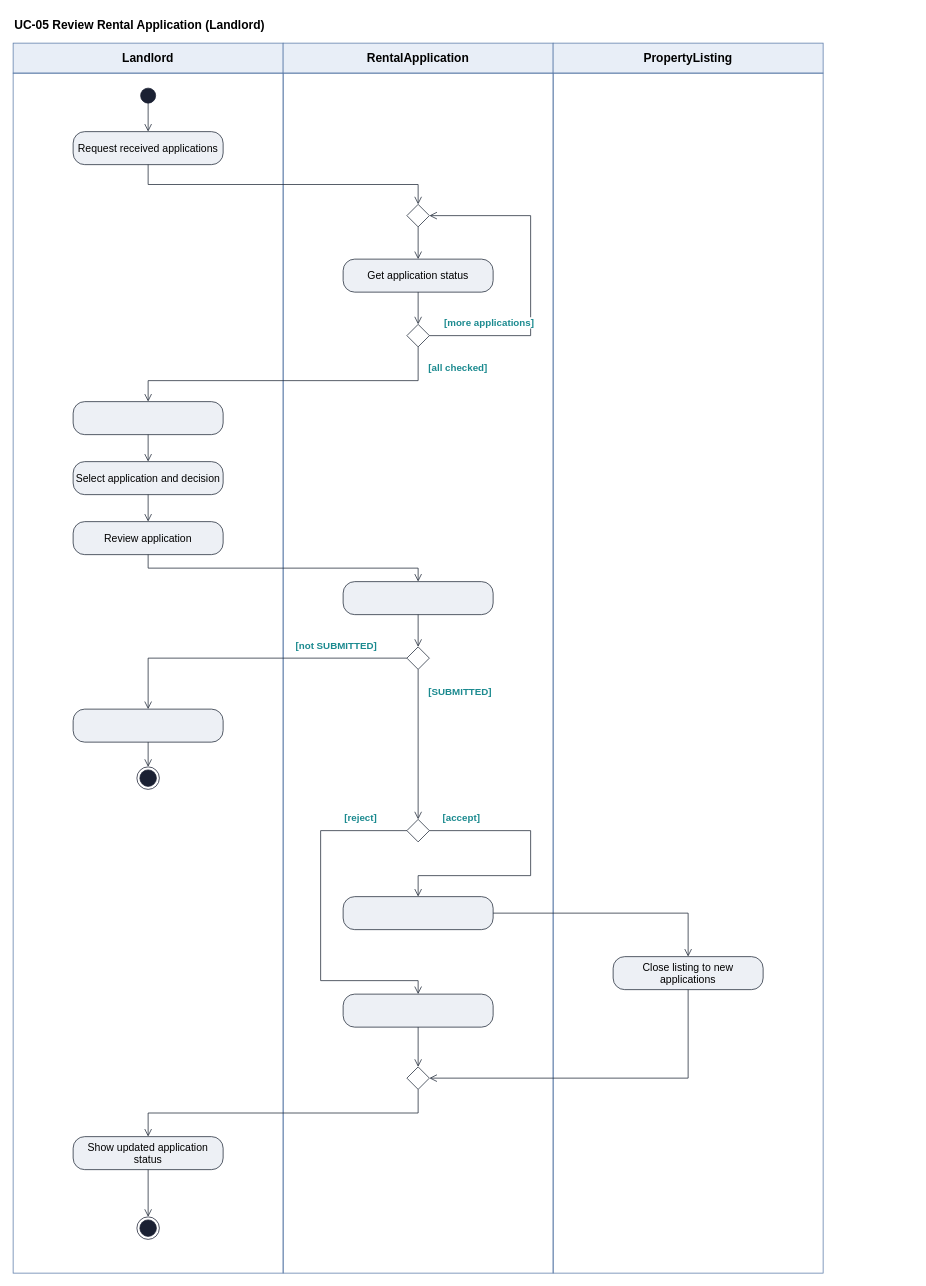
Image size: 926x1286. Some labels were removed from this diagram. The shapes that lost their labels are listed below. From the top down, each one's centre as x and y in pixels, then its label:
At [147,418]: "Show received applications".
At [417,598]: "Check application status".
At [147,725]: "Show already decided message".
At [417,913]: "Accept application".
At [417,1010]: "Reject application".
